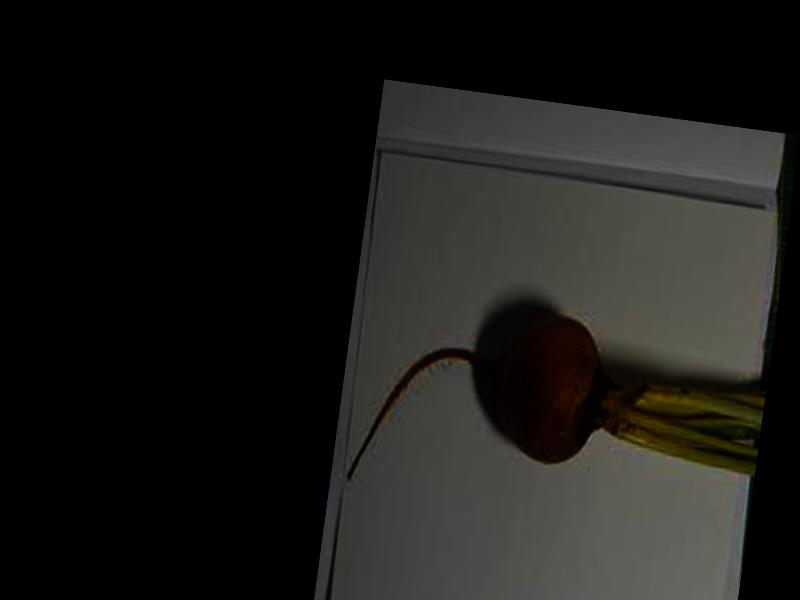Beet: (347, 291, 768, 531)
